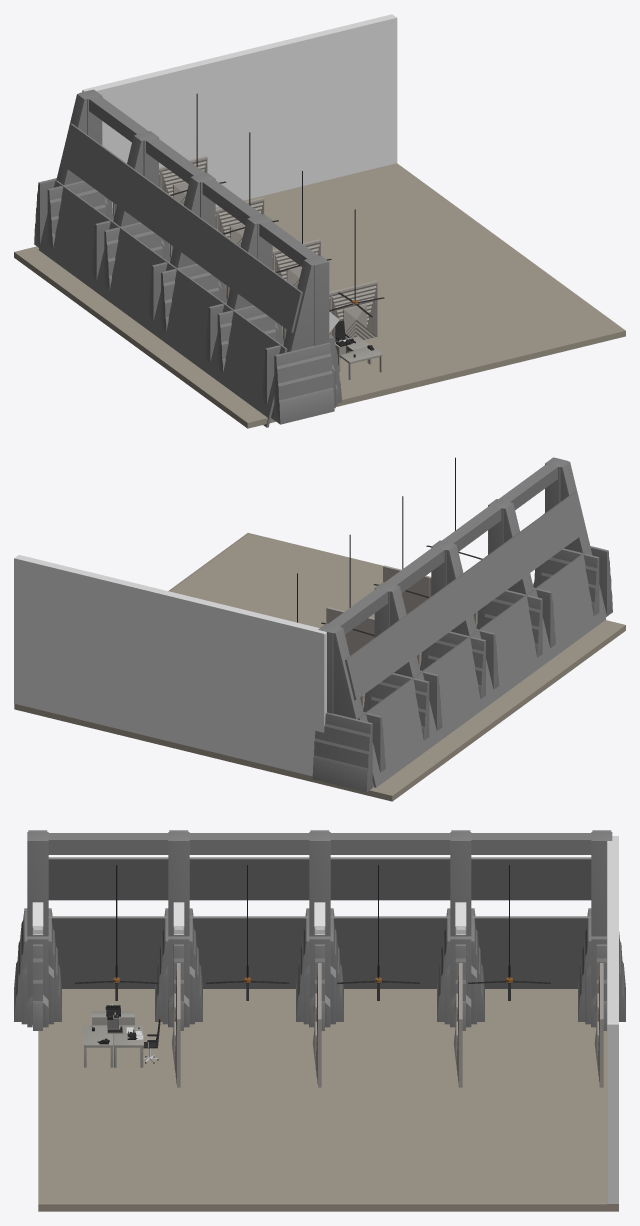
The model's file is blade_runner_office_stage.glb.
The picture shows the model from 3 angles, top to bottom: view 1: azimuth 30°, elevation 25°; view 2: azimuth 150°, elevation 25°; view 3: azimuth 270°, elevation 25°; orthographic projection. The views are drawn at different scales.
Visible parts, largest first — view 1: floor, back_wall, pillar_base, outside_wall_bottom_panel, outside_wall_middle_panel, sound_barrier, beam, fan, desk.001; view 2: back_wall, pillar_base, floor, outside_wall_bottom_panel, outside_wall_middle_panel, beam, sound_barrier, fan; view 3: floor, outside_wall_bottom_panel, pillar_base, outside_wall_middle_panel, beam, back_wall, sound_barrier, fan, lamp, sound_barrier.001, desk.001, desk.
Boxes of the visible parts, x1,y1,x2,y2 form: floor: (14, 163, 625, 428); back_wall: (82, 14, 397, 213); pillar_base: (34, 89, 341, 424); outside_wall_bottom_panel: (39, 180, 287, 427); outside_wall_middle_panel: (61, 123, 302, 332); sound_barrier: (160, 156, 377, 341); beam: (89, 96, 318, 266); fan: (170, 93, 384, 317); desk.001: (338, 346, 382, 379); back_wall: (14, 555, 326, 776); pillar_base: (312, 457, 612, 792); floor: (14, 533, 625, 801); outside_wall_bottom_panel: (357, 550, 606, 787); outside_wall_middle_panel: (345, 491, 586, 700); beam: (328, 464, 557, 634); sound_barrier: (326, 565, 430, 655); fan: (297, 457, 482, 636); floor: (38, 989, 618, 1211); outside_wall_bottom_panel: (48, 916, 591, 988); pillar_base: (14, 830, 625, 1030); outside_wall_middle_panel: (48, 857, 591, 900); beam: (48, 833, 591, 854); back_wall: (607, 836, 618, 1204); sound_barrier: (171, 991, 603, 1087); fan: (75, 865, 550, 1000); lamp: (32, 902, 466, 935); sound_barrier.001: (171, 963, 603, 1028); desk.001: (83, 1025, 113, 1067); desk: (113, 1025, 143, 1067).
Size of the model in its own units: 17269 by 7215 by 19458.
